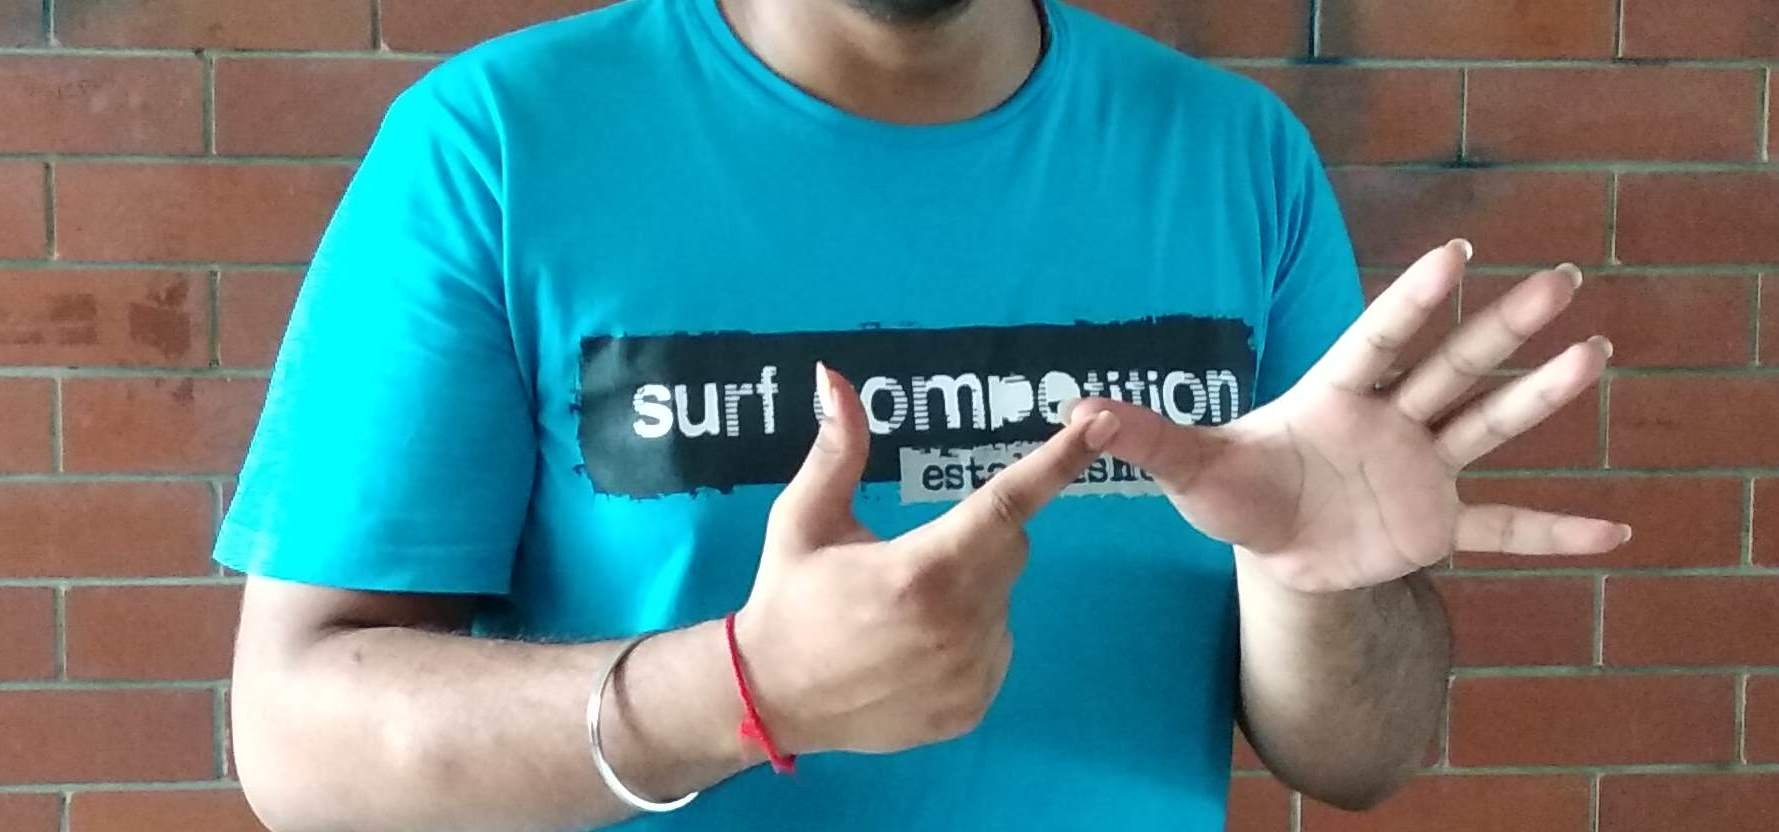a: (774, 260, 1569, 722)
